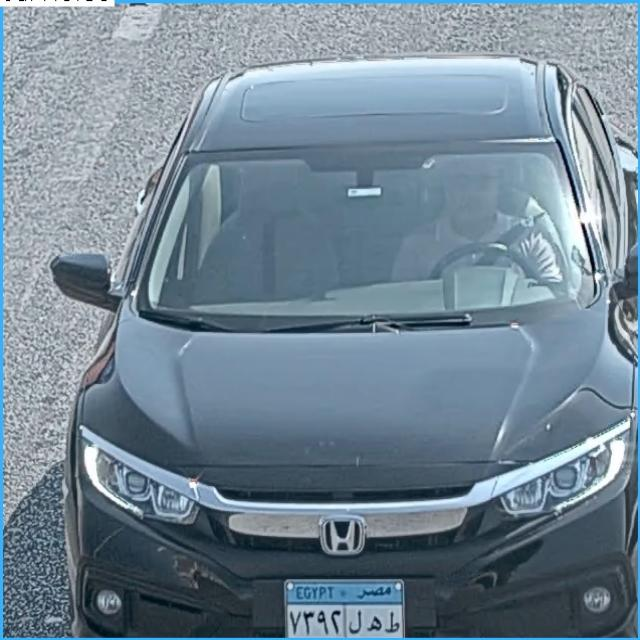windshield: (125, 153, 588, 315)
